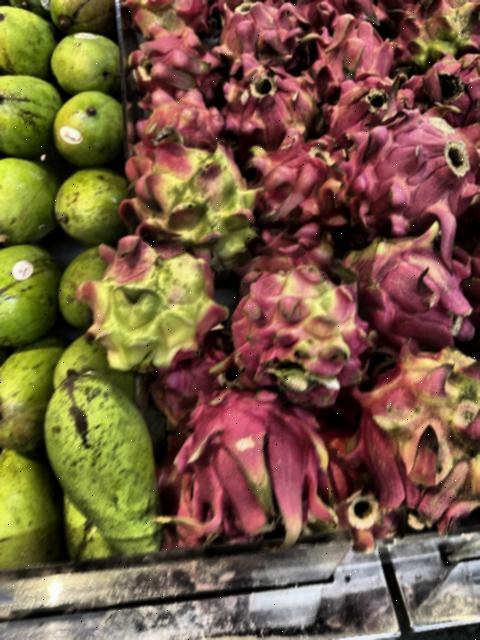buah-naga-belum-matang: (346, 332, 480, 532), (229, 237, 375, 405), (78, 228, 222, 362), (341, 222, 473, 348), (126, 133, 252, 260), (396, 0, 480, 60)
buah-naga-matang: (162, 377, 324, 537), (338, 104, 476, 240), (246, 134, 358, 232), (215, 63, 321, 137), (125, 19, 217, 90), (309, 13, 391, 91), (218, 0, 312, 68), (396, 49, 480, 125), (126, 88, 216, 146), (318, 85, 389, 132)
